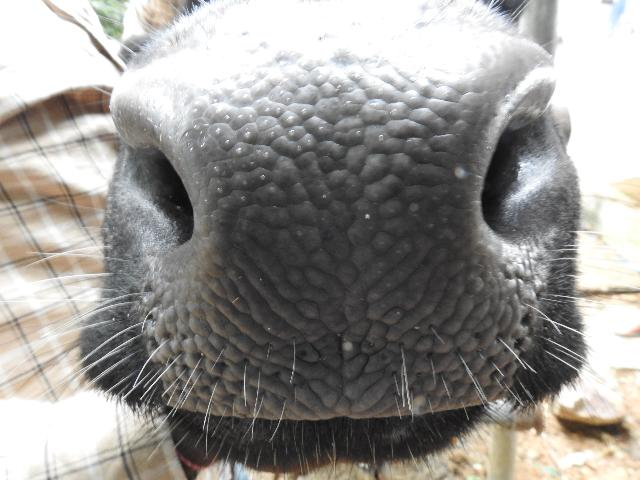Muzzle: (124, 74, 546, 430)
